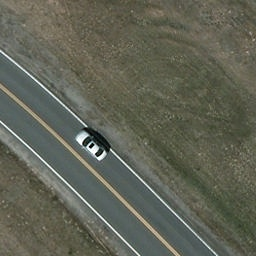car: (72, 126, 111, 163)
